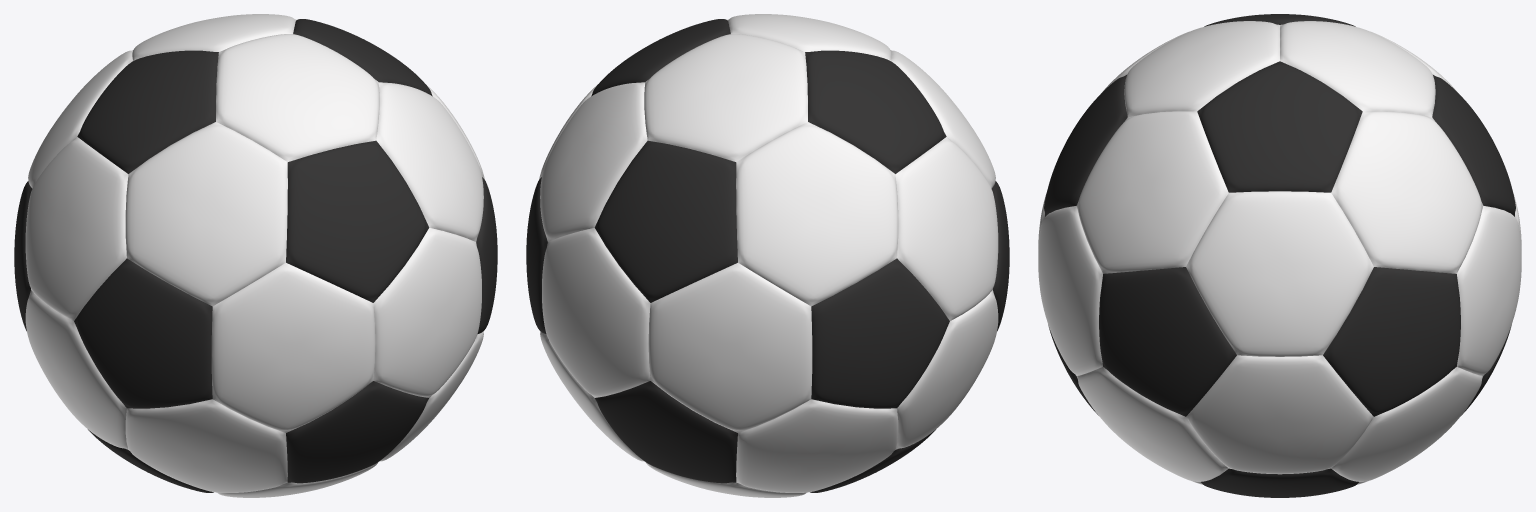
The model's file is football.obj.
3 views of the same model, side by side, from view 1: azimuth 30°, elevation 25°; view 2: azimuth 150°, elevation 25°; view 3: azimuth 270°, elevation 25° (orthographic).
Visible parts, largest first — view 1: Hedra001; view 2: Hedra001; view 3: Hedra001.
Boxes of the visible parts, x1,y1,x2,y2 form: Hedra001: (14, 14, 497, 497); Hedra001: (526, 14, 1009, 497); Hedra001: (1038, 14, 1521, 497).
Size of the model in its own units: 99.59 by 99.59 by 99.59.
